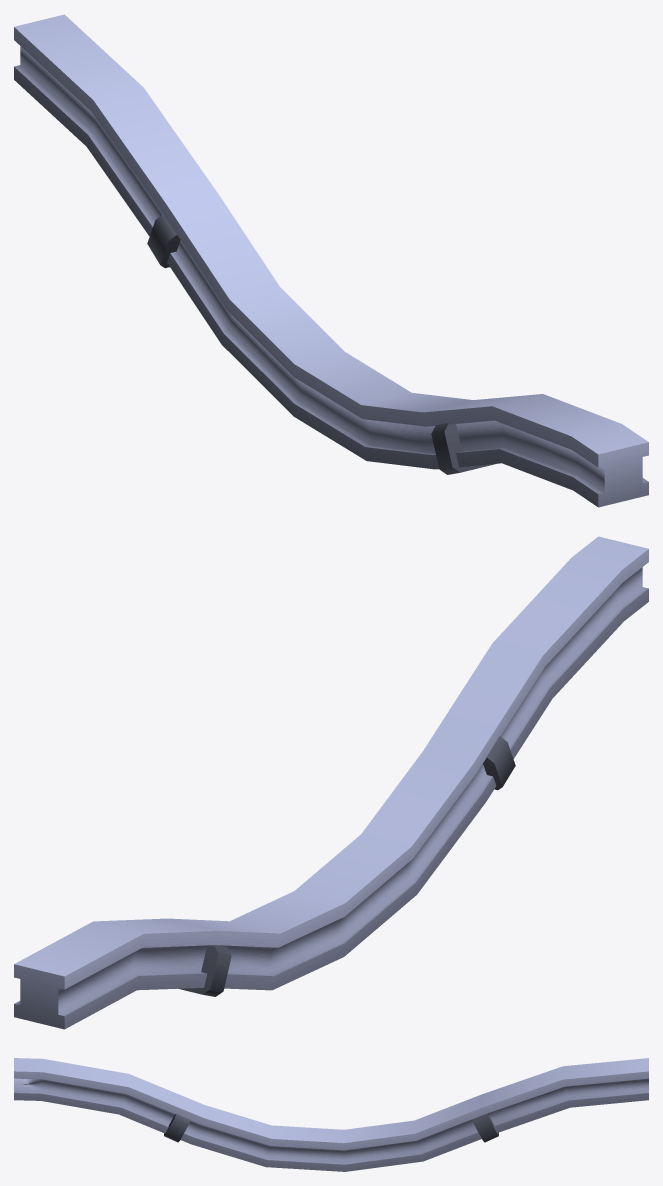
The model's file is coaster-monorail-straight-bump-down.glb.
3 views of the same model, one above another, from view 1: azimuth 30°, elevation 25°; view 2: azimuth 150°, elevation 25°; view 3: azimuth 270°, elevation 25° (orthographic). The views are drawn at different scales.
Parts seen in each view (by area): view 1: coaster-monorail-straight-bump-down; view 2: coaster-monorail-straight-bump-down; view 3: coaster-monorail-straight-bump-down.
Boxes of the visible parts, x1,y1,x2,y2 form: coaster-monorail-straight-bump-down: [14, 14, 648, 507]; coaster-monorail-straight-bump-down: [14, 536, 648, 1029]; coaster-monorail-straight-bump-down: [14, 1058, 648, 1171].
Bounding box in the file's own units: 0.75 × 2.1 × 12.
1 material, 1 textured.
